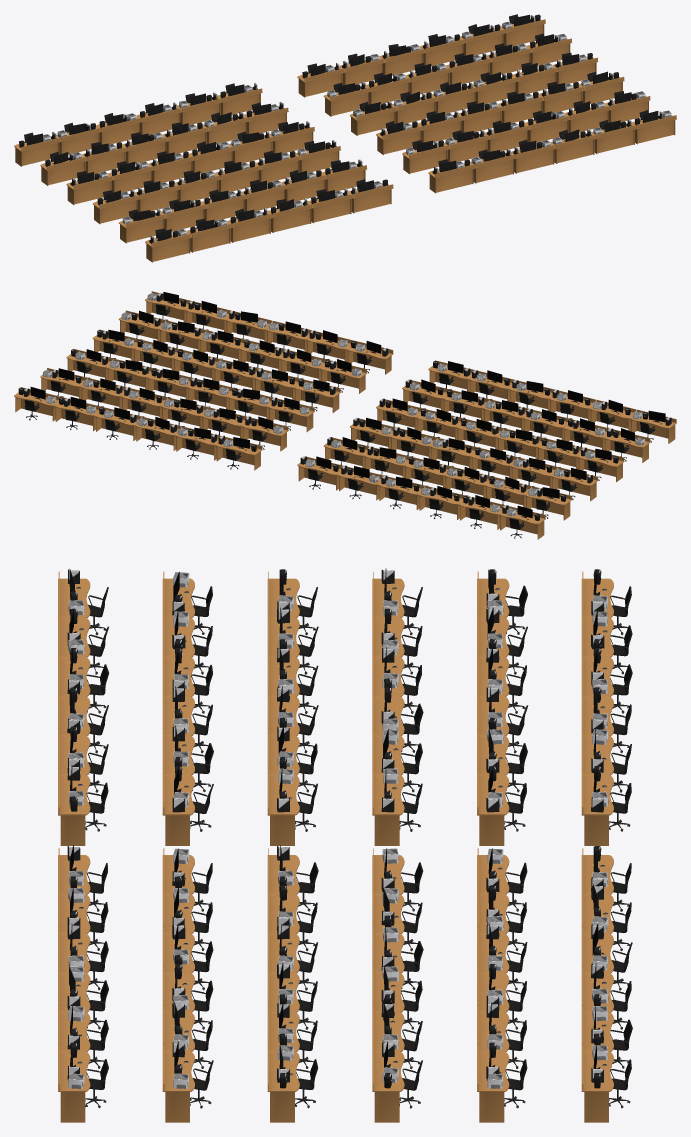
Rendered from tables2.glb.
The picture shows the model from 3 angles, top to bottom: view 1: azimuth 30°, elevation 25°; view 2: azimuth 150°, elevation 25°; view 3: azimuth 270°, elevation 25°; orthographic projection. The views are drawn at different scales.
Visible parts, largest first — view 1: table_geo_000001.066, table_geo_000001.030, table_geo_000001.048, table_geo_000001, table_geo_000001.042, table_geo_000001.036, table_geo_000001.012, table_geo_000001.018, table_geo_000001.060, table_geo_000001.024, table_geo_000001.054, table_geo_000001.006 (+60 smaller); view 2: table_geo_000001.036, table_geo_000001.012, table_geo_000001, table_geo_000001.030, table_geo_000001.054, table_geo_000001.018, table_geo_000001.042, table_geo_000001.048, table_geo_000001.024, table_geo_000001.060, table_geo_000001.006, table_geo_000001.066 (+60 smaller); view 3: table_geo_000001.053, table_geo_000001.011, table_geo_000001.071, table_geo_000001.005, table_geo_000001.017, table_geo_000001.035, table_geo_000001.029, table_geo_000001.047, table_geo_000001.041, table_geo_000001.023, table_geo_000001.059, table_geo_000001.065 (+60 smaller).
Part boxes in pixels (x1,y1,x2,y2): table_geo_000001.066: (145,233,191,262); table_geo_000001.030: (428,163,475,193); table_geo_000001.048: (66,176,113,204); table_geo_000001: (297,67,344,97); table_geo_000001.042: (40,157,87,185); table_geo_000001.036: (14,136,61,166); table_geo_000001.012: (349,105,396,135); table_geo_000001.018: (376,125,422,155); table_geo_000001.060: (119,213,165,243); table_geo_000001.024: (402,144,449,174); table_geo_000001.054: (92,195,139,224); table_geo_000001.006: (323,86,370,116); table_geo_000001.036: (499,505,545,539); table_geo_000001.012: (267,398,314,431); table_geo_000001: (215,436,262,470); table_geo_000001.030: (346,340,393,374); table_geo_000001.054: (577,448,624,481); table_geo_000001.018: (294,378,341,412); table_geo_000001.042: (525,486,572,520); table_geo_000001.048: (551,467,598,501); table_geo_000001.024: (320,359,367,393); table_geo_000001.060: (603,429,650,462); table_geo_000001.006: (241,417,288,451); table_geo_000001.066: (629,409,676,443); table_geo_000001.053: (372,768,404,845); table_geo_000001.011: (477,1045,509,1122); table_geo_000001.071: (58,768,90,845); table_geo_000001.005: (581,1045,613,1122); table_geo_000001.017: (372,1045,404,1122); table_geo_000001.035: (58,1045,90,1122); table_geo_000001.029: (162,1045,194,1122); table_geo_000001.047: (477,768,509,845); table_geo_000001.041: (581,768,613,845); table_geo_000001.023: (267,1045,299,1122); table_geo_000001.059: (267,768,299,845); table_geo_000001.065: (162,768,194,845).
Size of the model in its own units: 28.95 by 1.35 by 13.72.
Materials: 15 (14 with a texture image).
